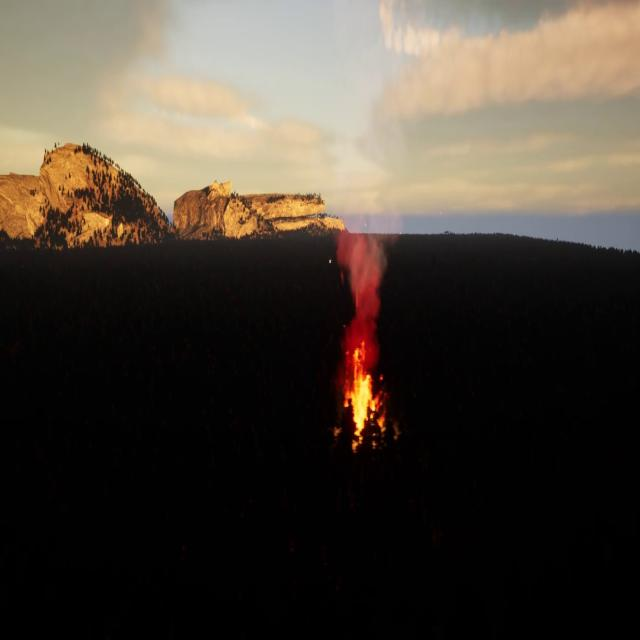fire: (347, 349, 389, 435)
smoke: (338, 226, 385, 351)
